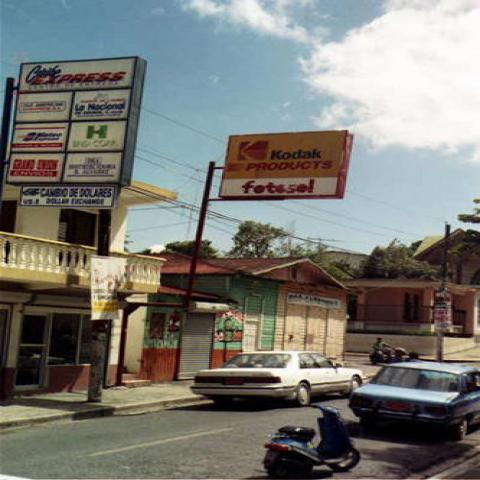car: (190, 350, 369, 406), (353, 362, 479, 441)
motorcycle: (257, 403, 363, 480)
